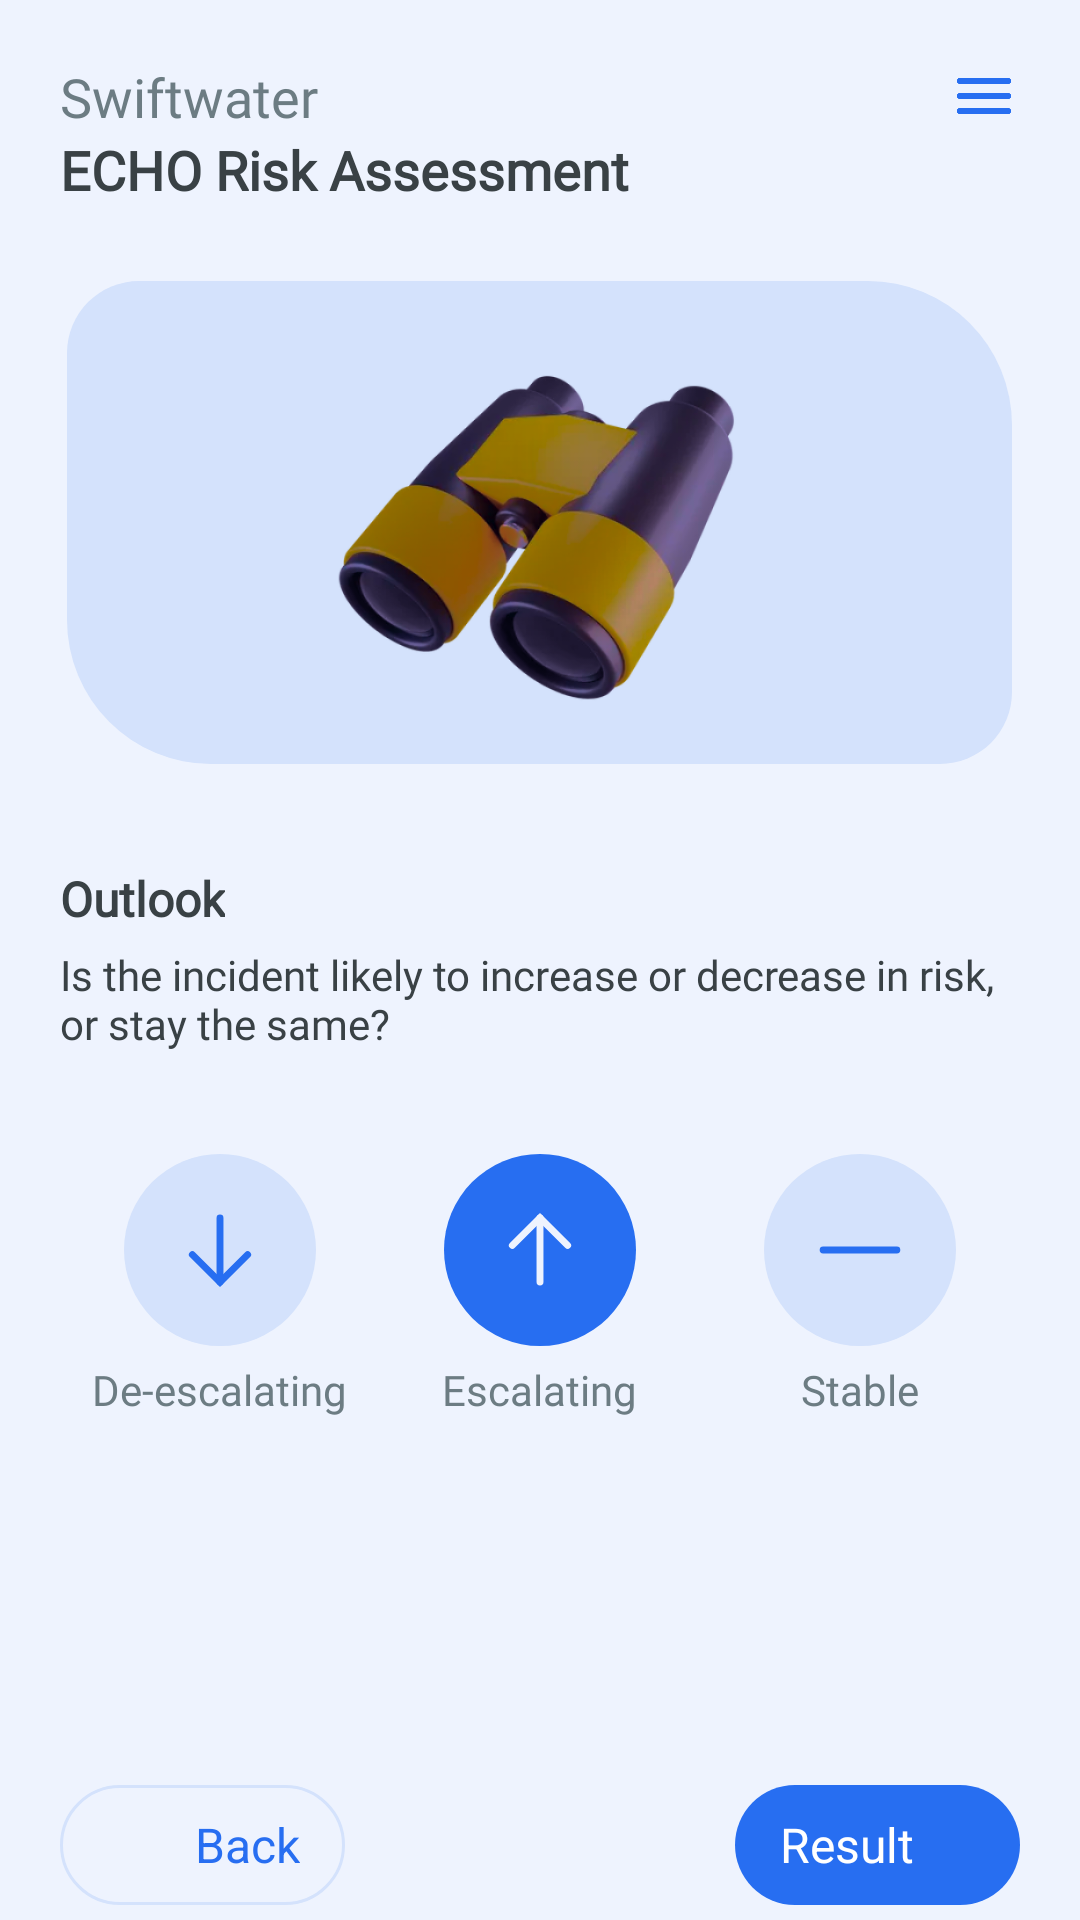

Named icons in this screenshot (1080×1920) and their centers, (x,y):
arrow down: (220,1250)
arrow up: (540,1250)
menu: (984,96)
removed: (860,1250)
